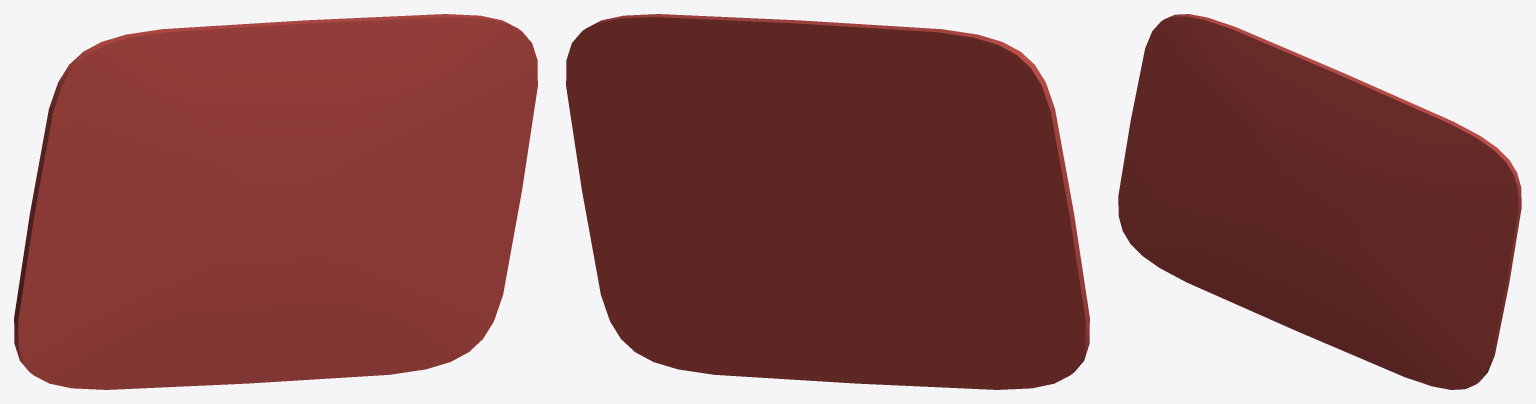
3 views of the same model, side by side, from view 1: azimuth 30°, elevation 25°; view 2: azimuth 150°, elevation 25°; view 3: azimuth 330°, elevation 25° (orthographic). The views are drawn at different scales.
Parts seen in each view (by area): view 1: mx_lod1; view 2: mx_lod1; view 3: mx_lod1.
Part boxes in pixels (<box>): mx_lod1: <box>14,14,537,389</box>; mx_lod1: <box>566,14,1089,389</box>; mx_lod1: <box>1118,14,1521,389</box>.
Bounding box in the file's own units: 0.3562 × 0.2646 × 0.0106.
